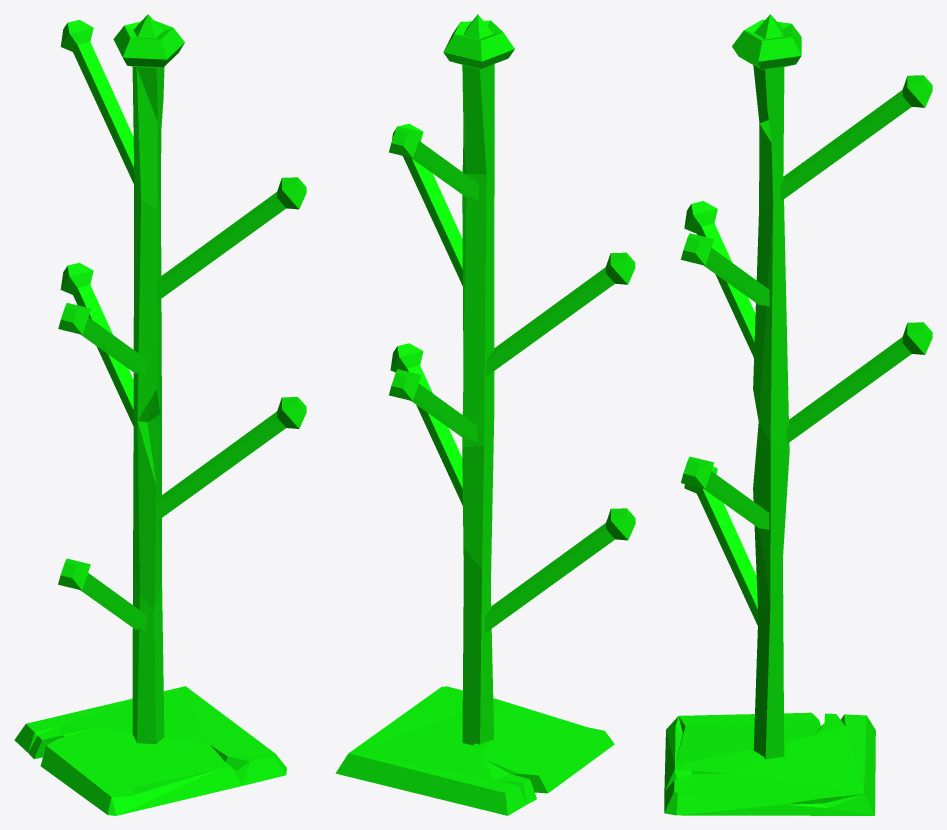
The model's file is SM_Stand_Pretzels_Fantasy.fbx.
3 renders of one model, left to right at view 1: azimuth 30°, elevation 25°; view 2: azimuth 150°, elevation 25°; view 3: azimuth 270°, elevation 25°, orthographic.
Visible parts, largest first — view 1: stand-pretzels-fantasy; view 2: stand-pretzels-fantasy; view 3: stand-pretzels-fantasy.
Part boxes in pixels (<box>): stand-pretzels-fantasy: <box>14,14,306,815</box>; stand-pretzels-fantasy: <box>335,14,635,815</box>; stand-pretzels-fantasy: <box>664,14,932,815</box>.
Size of the model in its own units: 0.3311 by 0.9632 by 0.3094.
